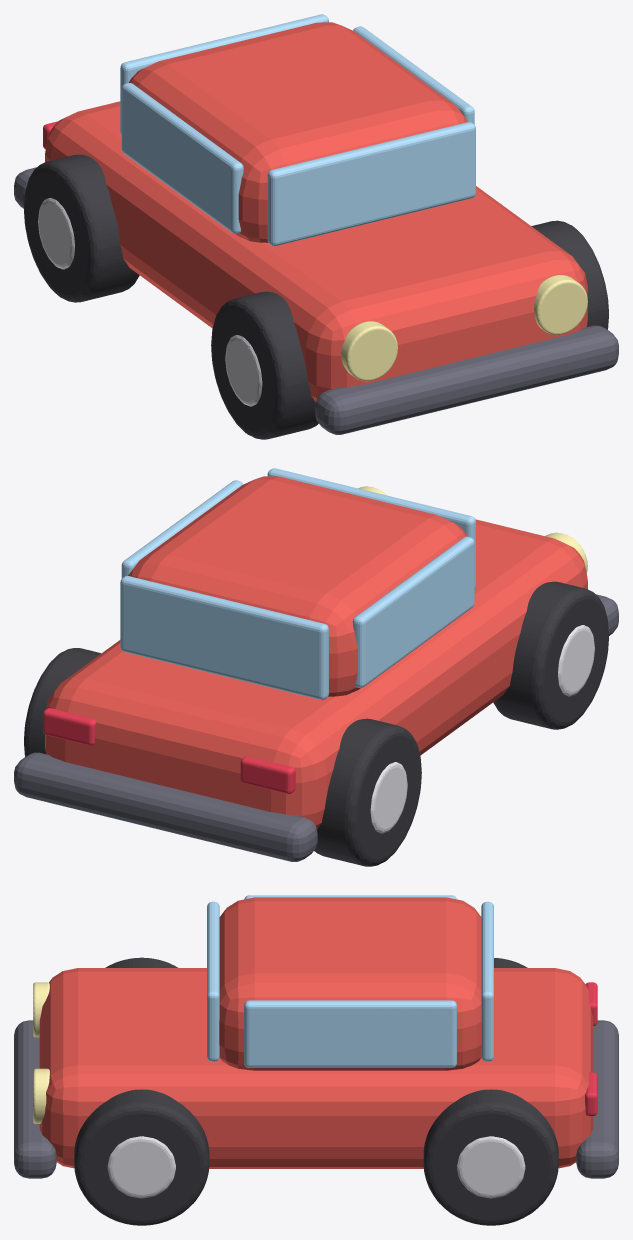
File: ToyCar.fbx
The picture shows the model from 3 angles, top to bottom: view 1: azimuth 30°, elevation 25°; view 2: azimuth 150°, elevation 25°; view 3: azimuth 270°, elevation 25°; orthographic projection. The views are drawn at different scales.
Parts seen in each view (by area): view 1: Body, Cabin, WindowFront, BumperFront, Tyre.001, Tyre, WindowSide, Headlight, Tyre.002, Headlight.001, WindowBack, Rim (+2 smaller); view 2: Body, Cabin, WindowBack, BumperBack, Tyre, Tyre.001, WindowSide, Tyre.003, WindowFront, Rim.001, Rim, Taillight (+2 smaller); view 3: Body, Cabin, WindowSide.001, Tyre.002, Tyre.003, BumperBack, BumperFront, Rim.002, Rim.003, WindowFront, WindowBack, Headlight.001 (+4 smaller).
Part boxes in pixels (x1,y1,x2,y2): Body: [45, 101, 587, 402]; Cabin: [128, 22, 467, 242]; WindowFront: [267, 122, 475, 246]; BumperFront: [315, 325, 618, 434]; Tyre.001: [24, 154, 139, 302]; Tyre: [211, 291, 318, 439]; WindowSide: [121, 83, 243, 233]; Headlight: [341, 321, 397, 381]; Tyre.002: [531, 220, 608, 329]; Headlight.001: [534, 275, 587, 334]; WindowBack: [120, 14, 328, 134]; Rim: [225, 335, 262, 406]; Body: [45, 519, 587, 829]; Cabin: [128, 476, 467, 696]; WindowBack: [120, 576, 328, 699]; BumperBack: [14, 752, 317, 861]; Tyre: [493, 581, 608, 729]; Tyre.001: [314, 718, 421, 866]; WindowSide: [352, 536, 474, 687]; Tyre.003: [24, 648, 100, 756]; WindowFront: [267, 468, 475, 588]; Rim.001: [370, 762, 407, 833]; Rim: [558, 625, 594, 696]; Taillight: [240, 756, 295, 793]; Body: [39, 968, 593, 1168]; Cabin: [219, 897, 481, 1070]; WindowSide.001: [244, 1000, 456, 1067]; Tyre.002: [74, 1089, 209, 1225]; Tyre.003: [423, 1089, 558, 1225]; BumperBack: [576, 1020, 618, 1178]; BumperFront: [14, 1020, 56, 1178]; Rim.002: [107, 1136, 175, 1198]; Rim.003: [457, 1136, 525, 1198]; WindowFront: [207, 901, 219, 1061]; WindowBack: [481, 901, 493, 1061]; Headlight.001: [33, 1068, 49, 1123].
Size of the model in its own units: 850 by 558 by 1420.
